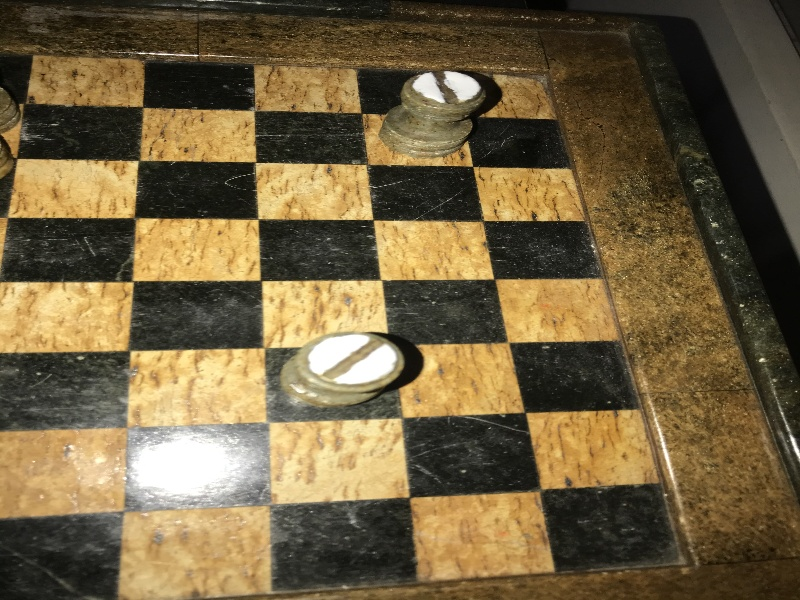WhiteRook: (280, 331, 405, 408), (378, 70, 485, 156)
